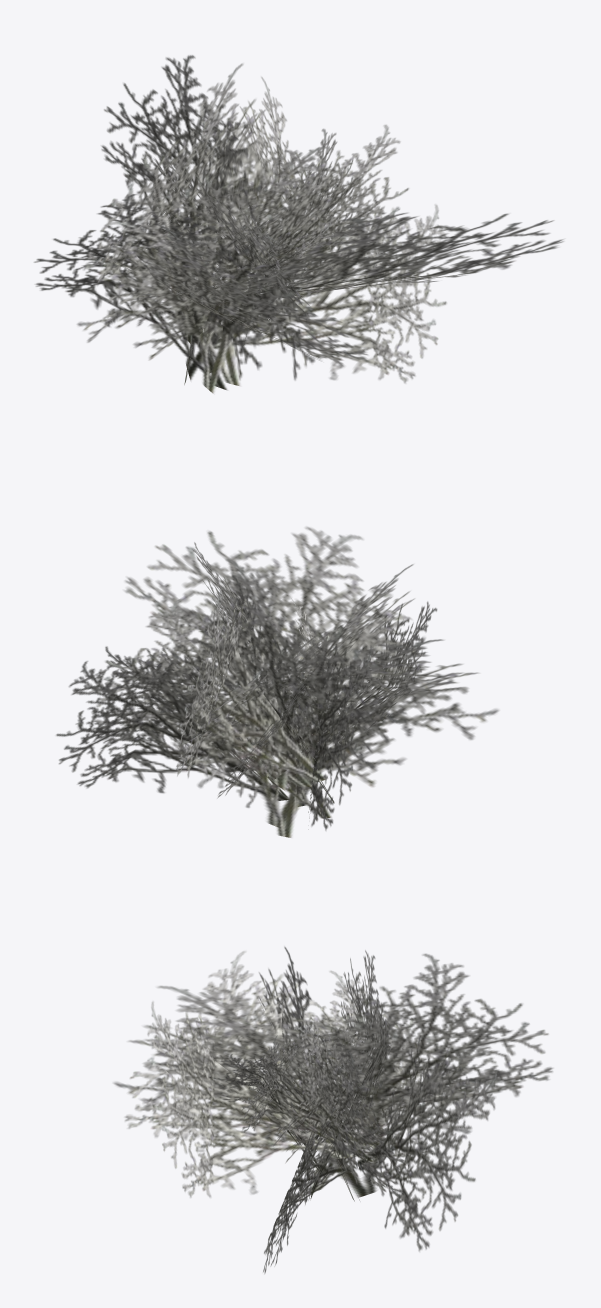
The model's file is wshrub_b.glb.
3 views of the same model, one above another, from view 1: azimuth 30°, elevation 25°; view 2: azimuth 150°, elevation 25°; view 3: azimuth 270°, elevation 25° (orthographic). The views are drawn at different scales.
Visible parts, largest first — view 1: Winter_Trees_Branches.001; view 2: Winter_Trees_Branches.001; view 3: Winter_Trees_Branches.001.
Part boxes in pixels (<box>): Winter_Trees_Branches.001: <box>34,55,563,393</box>; Winter_Trees_Branches.001: <box>56,526,498,837</box>; Winter_Trees_Branches.001: <box>113,946,552,1273</box>.
Size of the model in its own units: 7.22 by 4.4 by 7.04.
Materials: 1 (1 with a texture image).
